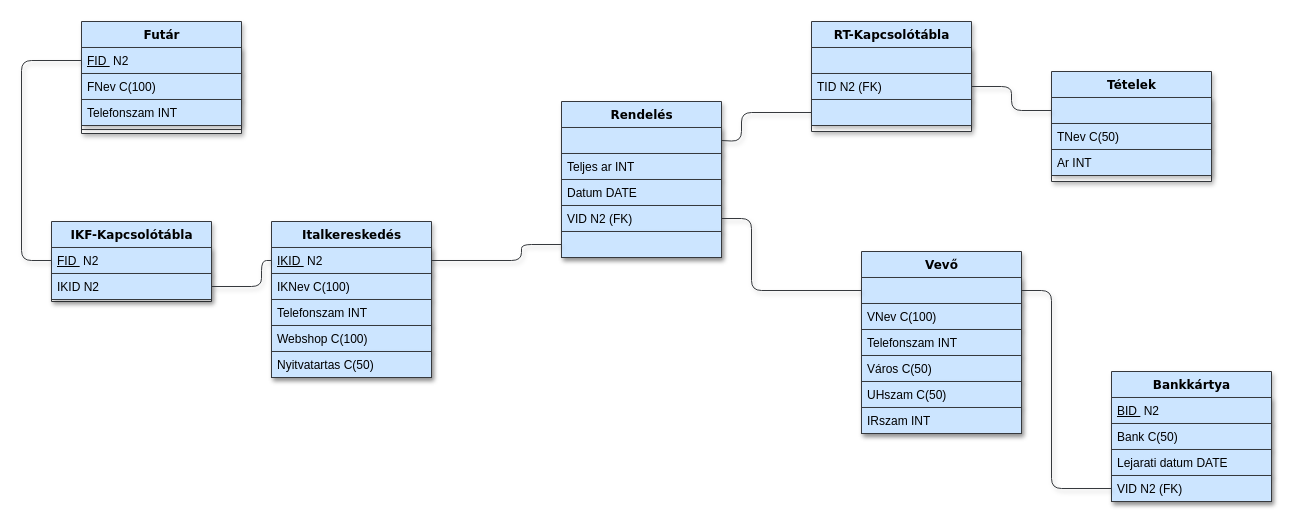
The diagram is 1295 pixels wide and 526 high, and some of its shapes have lost their labels. Each missing label, with the centre of its shape:
IKID N2(FK): the point at 642,245
RID N2: the point at 642,141
RID N2 (FK): the point at 892,113
RTID N2: the point at 892,61
TID N2: the point at 1132,111
VID N2: the point at 942,291
